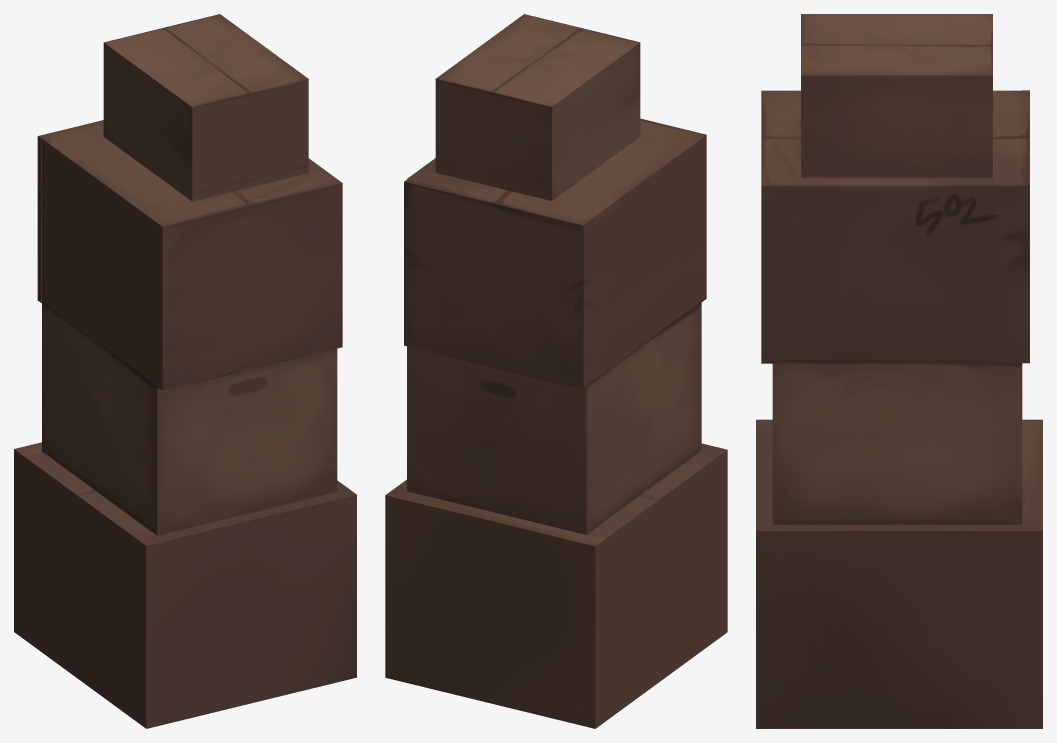
Rendered from Boxes.fbx.
The picture shows the model from 3 angles, left to right: view 1: azimuth 30°, elevation 25°; view 2: azimuth 150°, elevation 25°; view 3: azimuth 270°, elevation 25°; orthographic projection. The views are drawn at different scales.
Visible parts, largest first — view 1: Boxes2; view 2: Boxes2; view 3: Boxes2.
Part boxes in pixels (x1,y1,x2,y2): Boxes2: [14, 14, 356, 728]; Boxes2: [385, 14, 727, 728]; Boxes2: [756, 14, 1042, 728].
Size of the model in its own units: 72.75 by 195 by 79.28.
